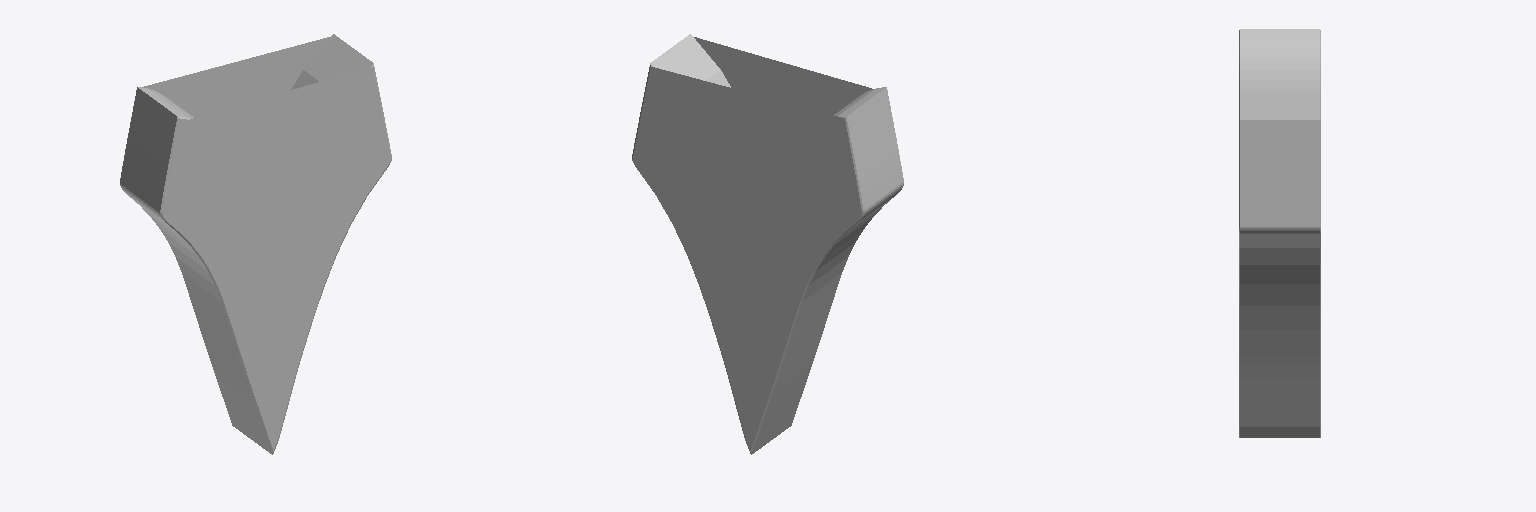
3 renders of one model, left to right at view 1: azimuth 30°, elevation 25°; view 2: azimuth 150°, elevation 25°; view 3: azimuth 270°, elevation 25°, orthographic.
Visible parts, largest first — view 1: 7_Mesh.003; view 2: 7_Mesh.003; view 3: 7_Mesh.003.
Part boxes in pixels (bbox=[...]): 7_Mesh.003: bbox=[120, 34, 391, 454]; 7_Mesh.003: bbox=[632, 34, 903, 454]; 7_Mesh.003: bbox=[1239, 29, 1320, 437].
Bounding box in the file's own units: 2.33 × 3.53 × 0.7176.